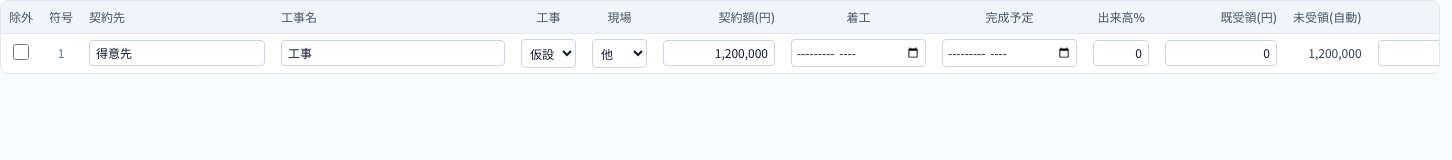
Test: LinesTable: 契約額の入力 › 3桁区切りの表示中に続けて打っても桁が崩れない
Click the field named "契約額" at (719, 53), box [663,40,775,66]
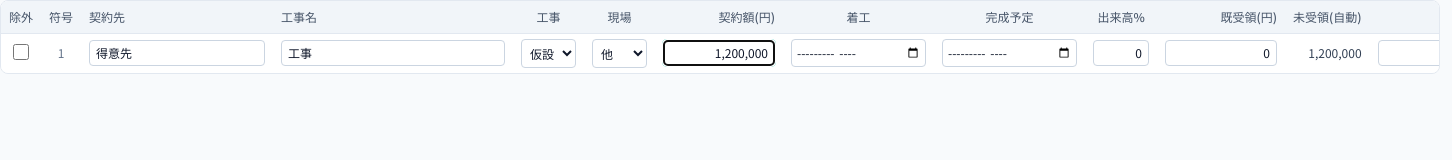
Type keys "{End}5"
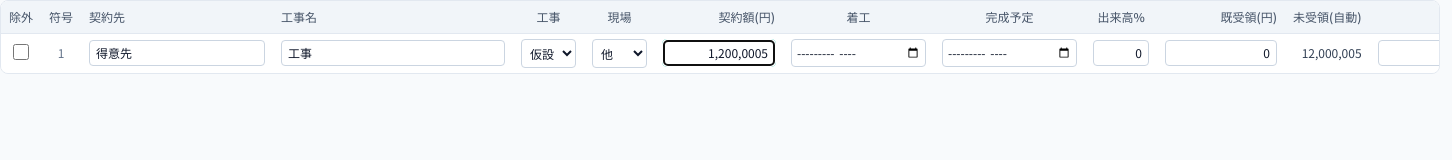
Result: the field named "契約額" holds "1,200,0005" at [663,40,775,66]
Press Tab
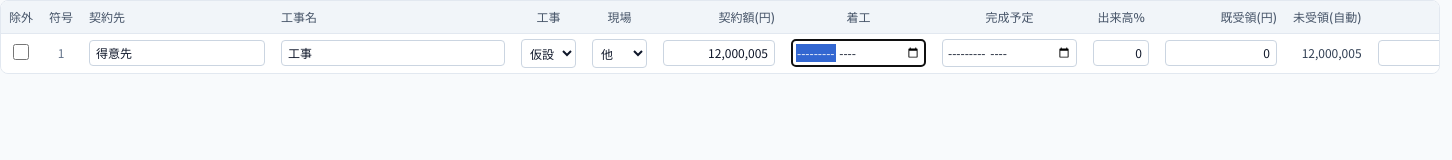
Result: the field named "契約額" holds "12,000,005" at [663,40,775,66]
